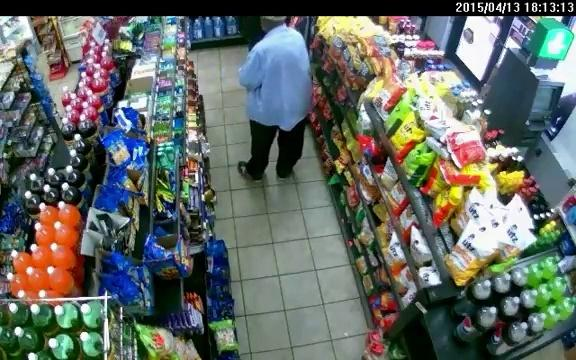Regular: (214, 14, 326, 202)
